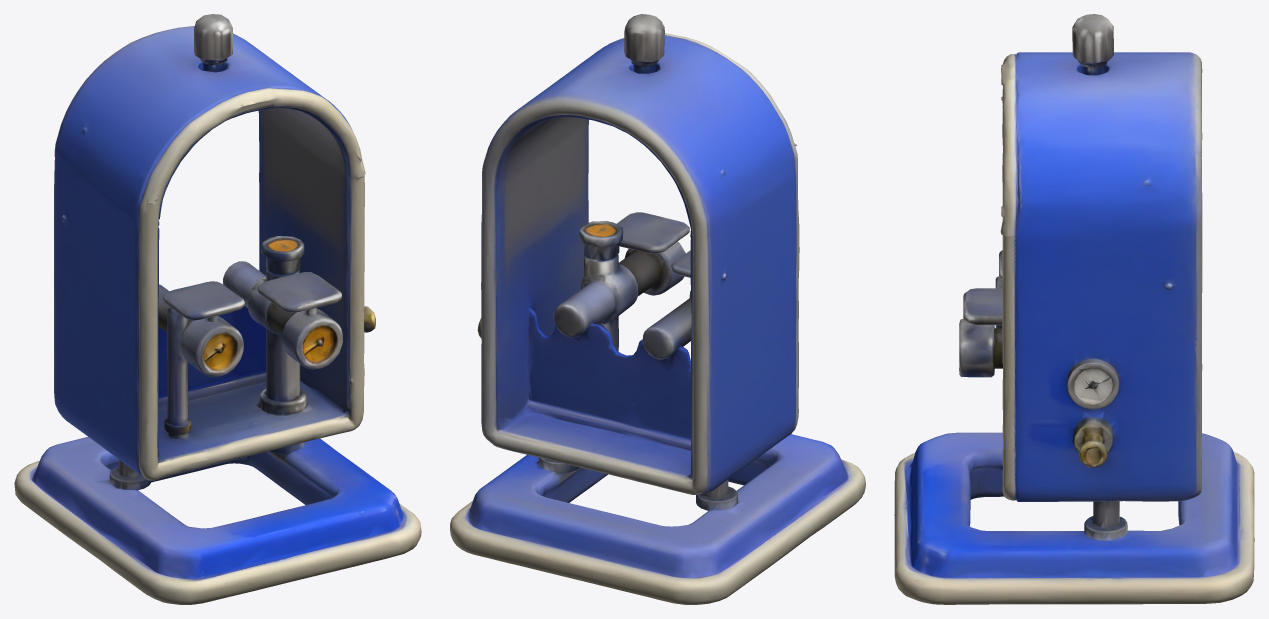
File: washer.glb
The picture shows the model from 3 angles, left to right: view 1: azimuth 30°, elevation 25°; view 2: azimuth 150°, elevation 25°; view 3: azimuth 270°, elevation 25°; orthographic projection. The views are drawn at different scales.
Parts seen in each view (by area): view 1: tripo_node_cf107f4f-ac82-4ec7-b56c-af32b1d3e935; view 2: tripo_node_cf107f4f-ac82-4ec7-b56c-af32b1d3e935; view 3: tripo_node_cf107f4f-ac82-4ec7-b56c-af32b1d3e935.
Part boxes in pixels (x1,y1,x2,y2): tripo_node_cf107f4f-ac82-4ec7-b56c-af32b1d3e935: [14, 14, 421, 604]; tripo_node_cf107f4f-ac82-4ec7-b56c-af32b1d3e935: [450, 14, 865, 604]; tripo_node_cf107f4f-ac82-4ec7-b56c-af32b1d3e935: [894, 14, 1254, 604].
Size of the model in its own units: 0.628 by 1 by 0.6233.
Materials: 1 (1 with a texture image).
